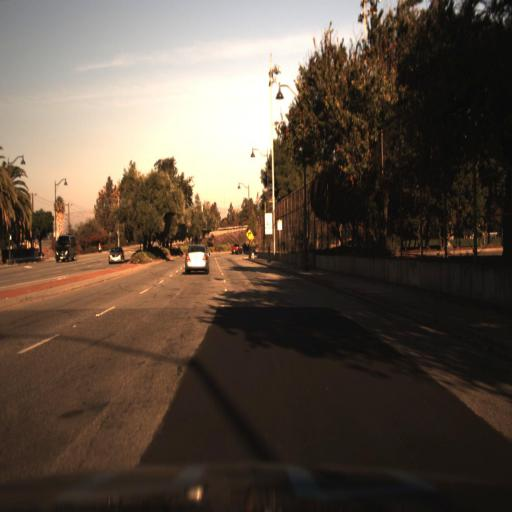car: (182, 241, 210, 274), (52, 240, 76, 264), (106, 244, 126, 265)
truck: (55, 234, 75, 264)
